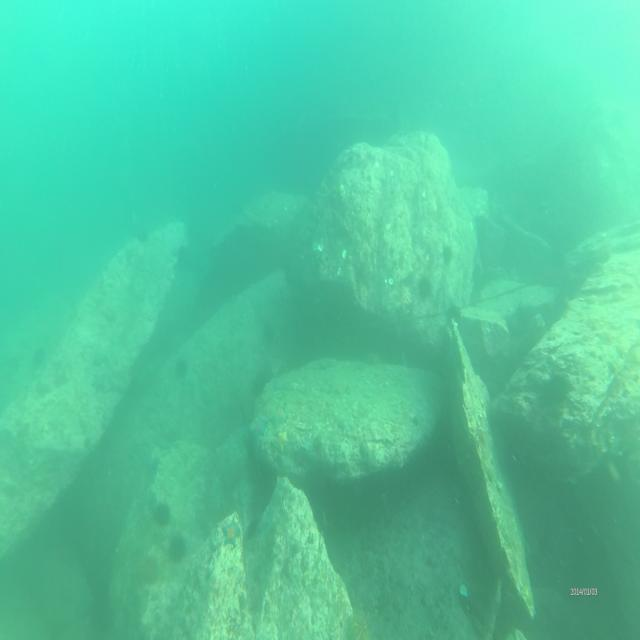echinus: (165, 534, 190, 563), (416, 274, 435, 302), (152, 502, 174, 526), (171, 358, 187, 381), (441, 245, 454, 269)
starfish: (220, 517, 240, 546), (275, 427, 291, 454), (254, 417, 268, 440)
